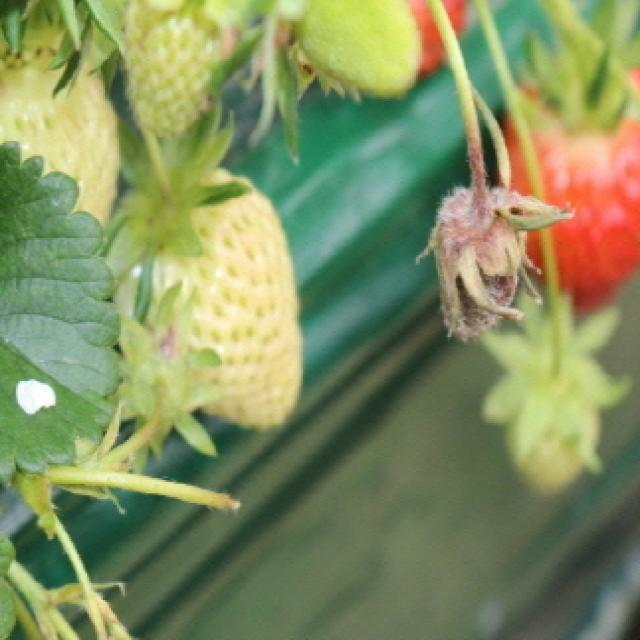Gray Mold: (420, 142, 576, 343)
